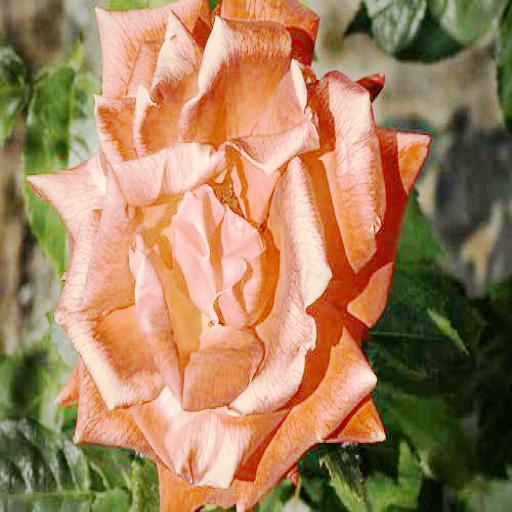rose: (30, 3, 426, 512)
